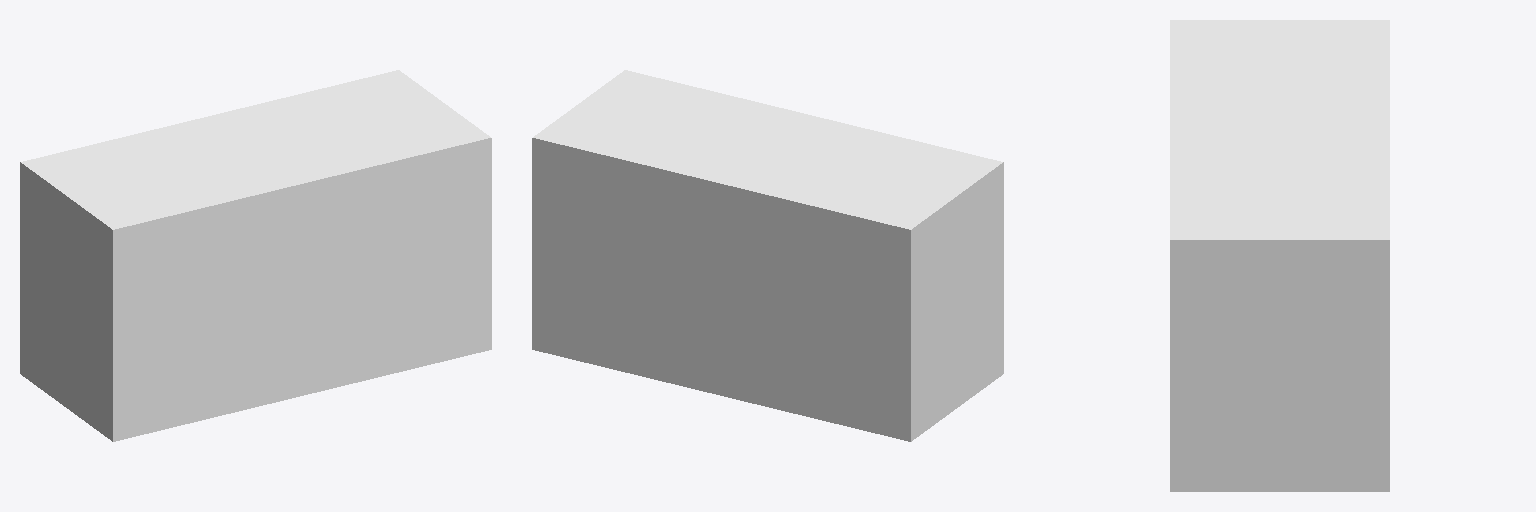
URDF robot description (puffs_tissue_0):
<?xml version='1.0' encoding='utf-8'?>
<robot name="puffs_tissue_0">
        <link name="link_0">
            <visual>
                <origin xyz="0.0 0.0 0.0" rpy="0.0 0.0 0.0" />
                <geometry>
                    <mesh filename="textured_objs/textured.obj" scale="1 1 1.0" />
                </geometry>
                <material name="white">
                    <color rgba="1 1 1 1" />
                </material>
            </visual>
            <collision>
                <origin xyz="0.0 0.0 0.0" rpy="0.0 0.0 0.0" />
                <geometry>
                    <mesh filename="textured_objs/textured.obj" scale="1 1 1.0" />
                </geometry>
            </collision>
            <inertial>
                <mass value="0.1" />
                <inertia ixx="0.0001" ixy="0.0" ixz="0.0" iyy="0.0001" iyz="0.0" izz="0.0001" />
            </inertial>
        </link>
    </robot>

--- What the picture shows (computed from the rendered views, not written in the file) ---
The picture shows the robot from 3 angles, left to right: view 1: azimuth 30°, elevation 25°; view 2: azimuth 150°, elevation 25°; view 3: azimuth 270°, elevation 25°; orthographic projection.
Robot: puffs_tissue_0 — 1 links, 0 joints (none); root link link_0; default pose: every joint at zero.
Visible links, largest first — view 1: link_0; view 2: link_0; view 3: link_0.
Link boxes in pixels (<box>): link_0: <box>20,70,491,441</box>; link_0: <box>532,70,1003,441</box>; link_0: <box>1170,20,1389,491</box>.
Size in the robot's own frame: 0.224 by 0.095 by 0.12 metres.
Meshes: 1 distinct files referenced, 1 mesh visuals loaded (1 OBJ).